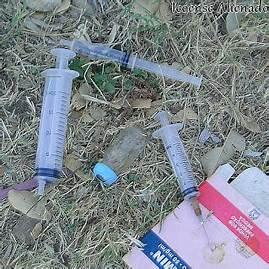Syringe: (144, 109, 220, 261), (84, 34, 207, 96), (29, 38, 75, 201)
